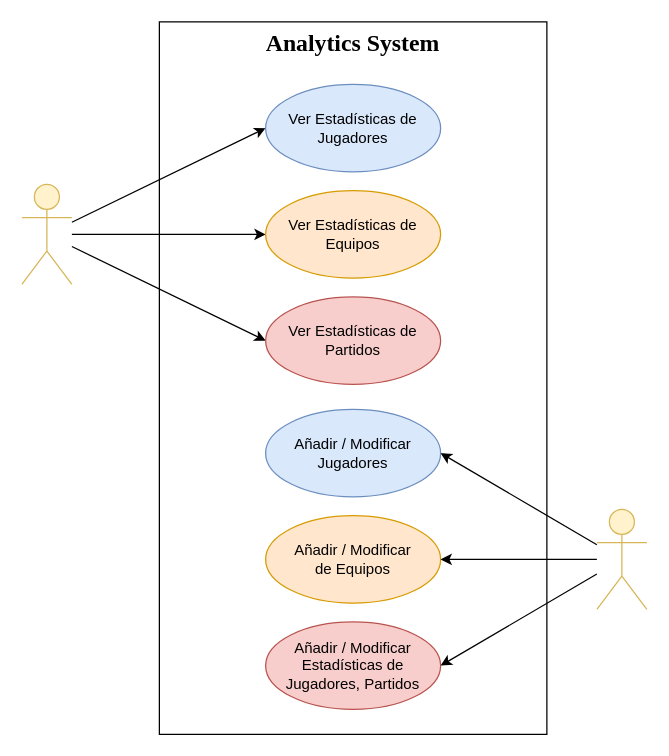
This 669x756 diagram has some shape labels left out. Each missing label, with the box of its shape:
Admin: (596, 508, 647, 609)
User: (21, 183, 72, 284)
